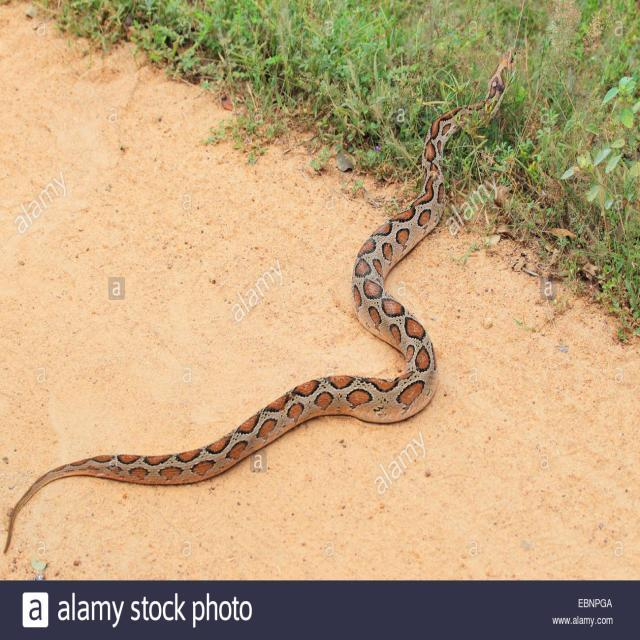Snake: (3, 45, 518, 553)
